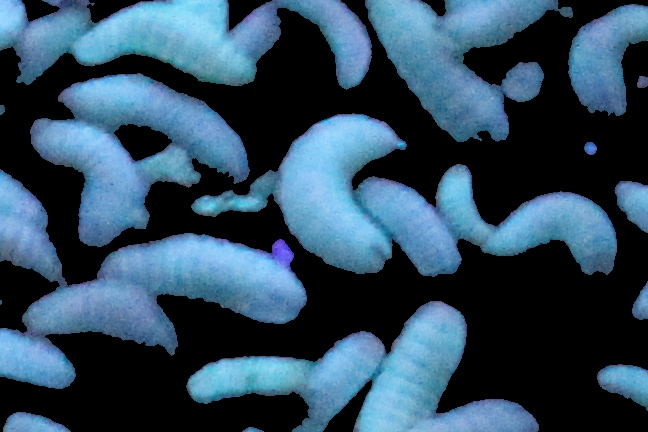larvae: (56, 73, 249, 181), (368, 1, 509, 140), (273, 115, 397, 272), (94, 233, 304, 324), (69, 1, 258, 84), (30, 119, 147, 246), (356, 302, 468, 432), (22, 281, 178, 354), (482, 191, 617, 274), (357, 172, 458, 274), (283, 331, 385, 430), (564, 4, 648, 116), (270, 1, 372, 88), (187, 355, 310, 405), (439, 1, 563, 47), (15, 6, 88, 83), (1, 329, 77, 390), (410, 398, 538, 432), (439, 165, 492, 241), (1, 218, 64, 278), (1, 170, 56, 231)
